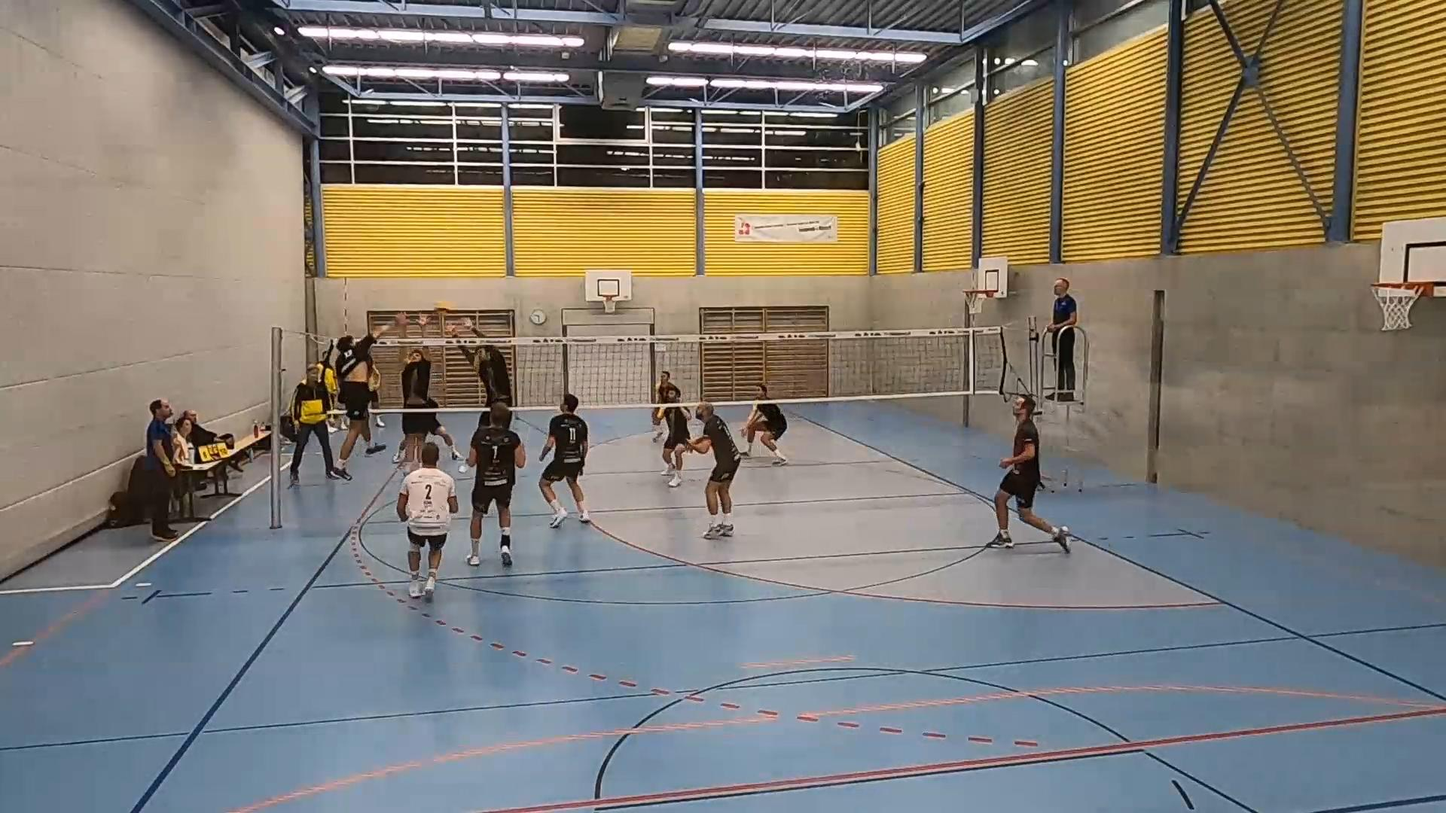attacco: (322, 315, 395, 485)
muro: (390, 309, 463, 475), (443, 314, 515, 431)
